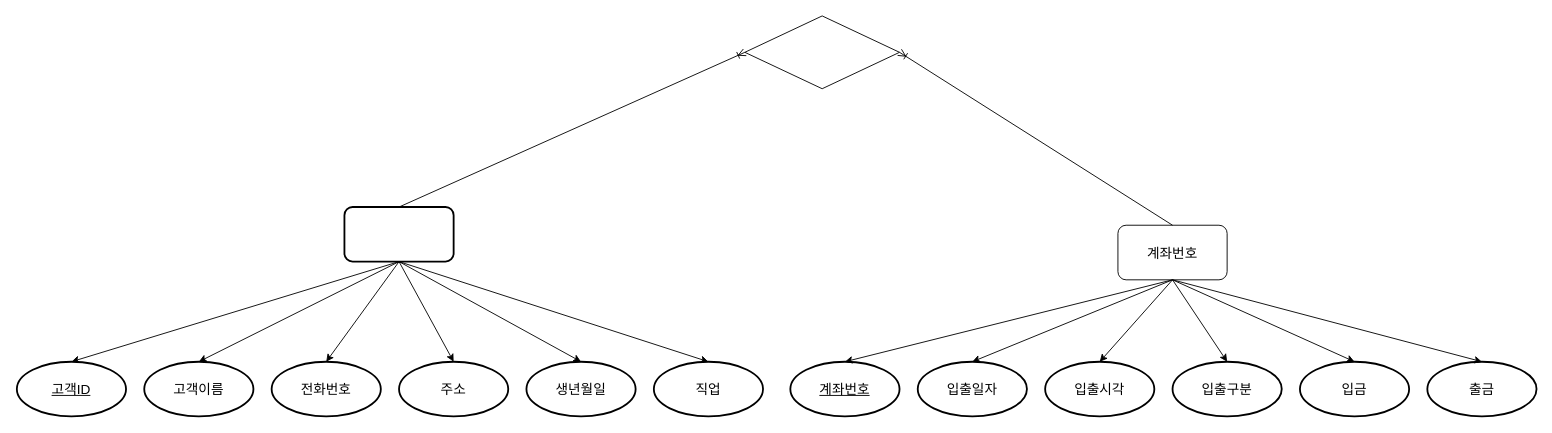
Image size: 1552x433. Some labels were removed from this diagram. Here are the shapes that lost their labels. From the top down, the box of each, then its label:
(744, 15, 900, 89): 거래내역
(343, 206, 454, 262): 고객정보
